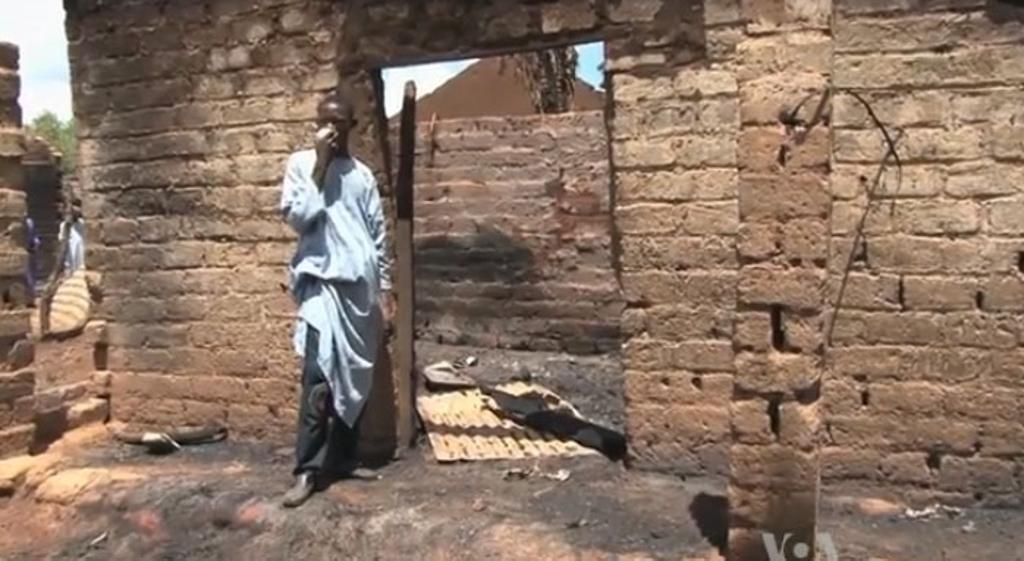face: (318, 103, 351, 145)
